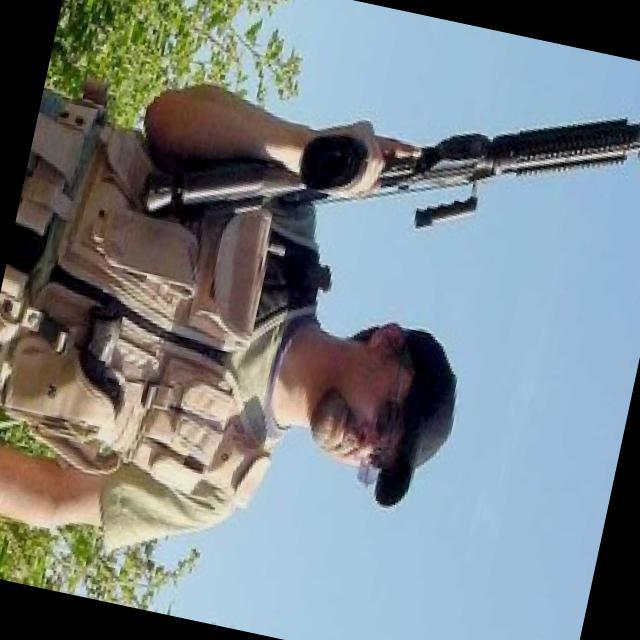long weapon: (117, 0, 639, 348)
